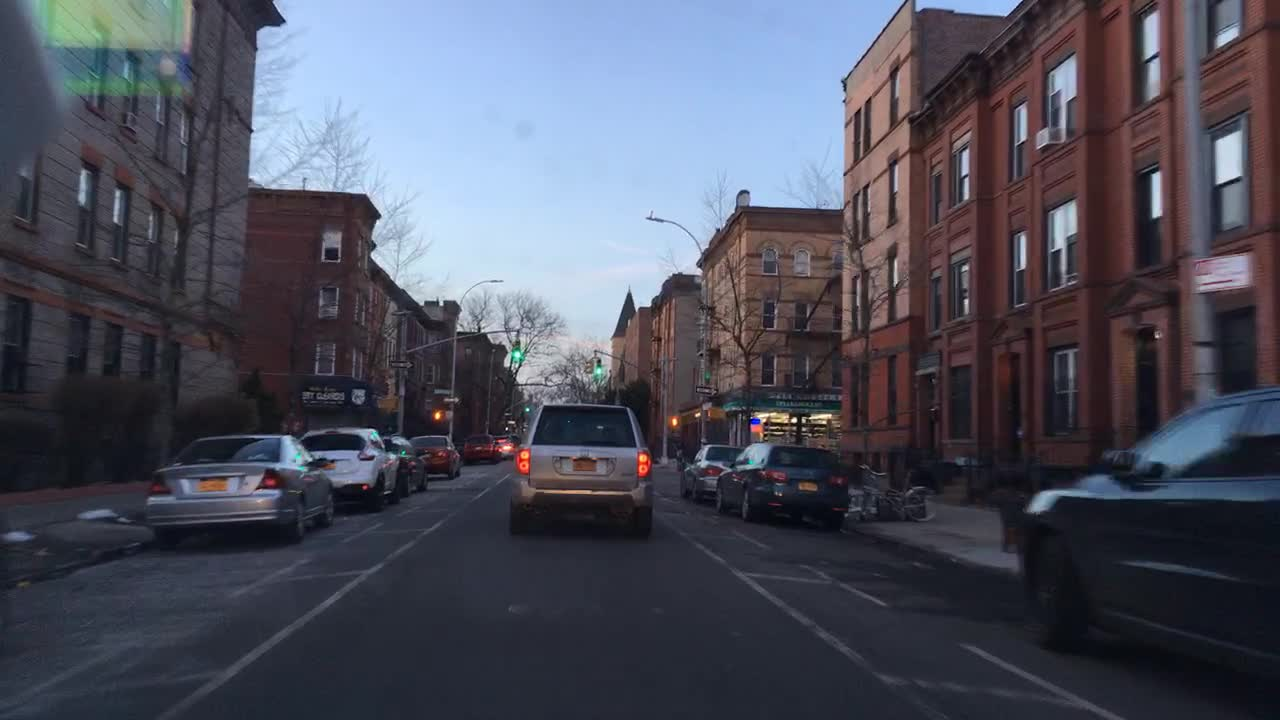bike: (848, 465, 939, 523)
car: (1013, 387, 1275, 694), (140, 434, 333, 540), (511, 404, 653, 537), (714, 444, 845, 521), (296, 427, 401, 513), (675, 444, 747, 500), (378, 436, 431, 493), (406, 434, 462, 479), (462, 436, 497, 464), (675, 443, 700, 474), (499, 436, 518, 458)
traffic light: (380, 395, 397, 411), (509, 338, 520, 362), (593, 353, 602, 374), (429, 410, 443, 422), (707, 408, 723, 418), (583, 357, 591, 376)
traffic sign: (387, 357, 413, 370), (695, 384, 717, 396), (667, 415, 681, 427)
